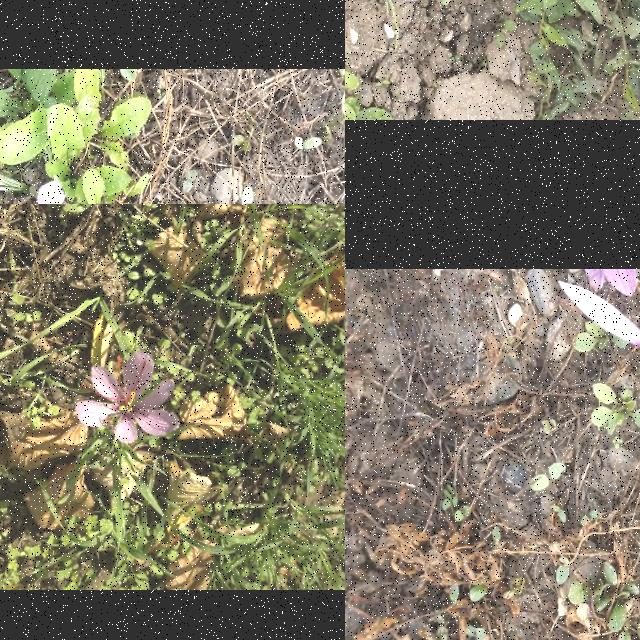flower: (76, 352, 180, 444), (558, 281, 640, 355), (37, 181, 65, 204)
